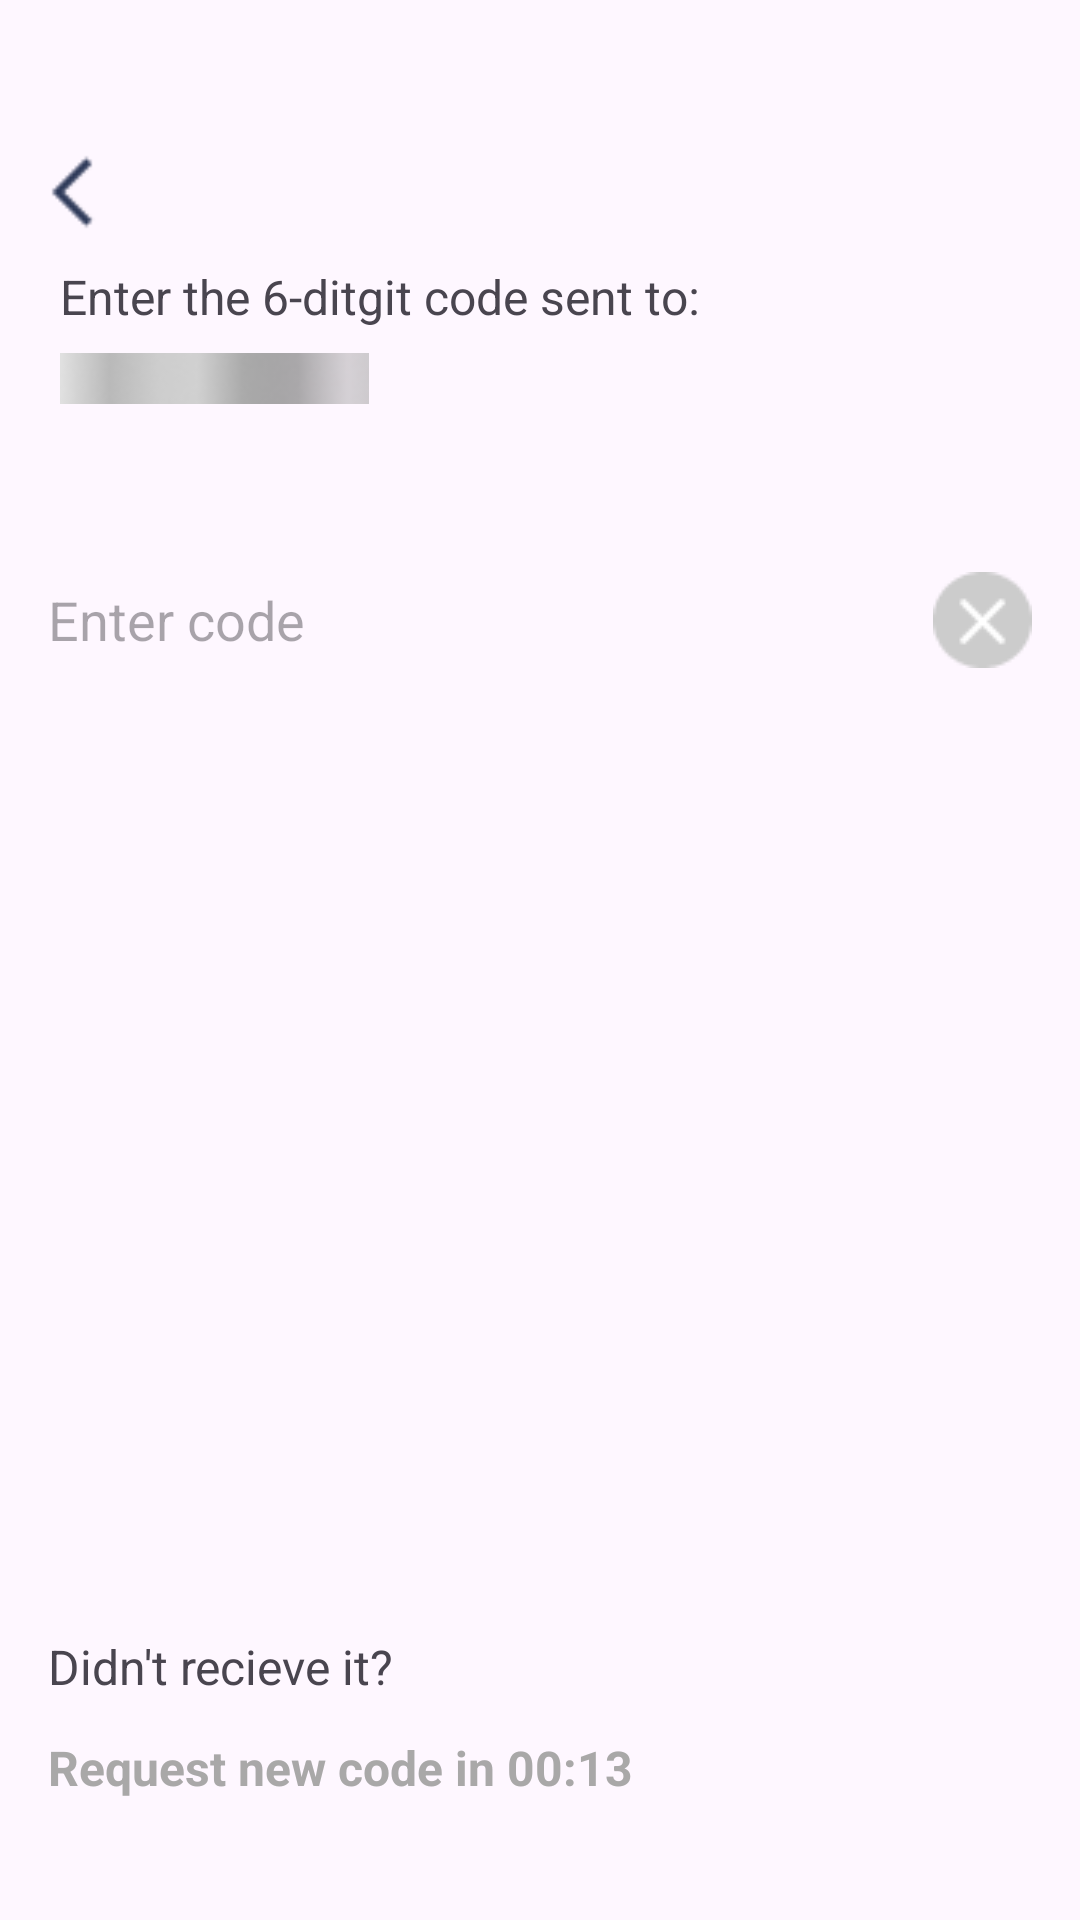

Icon bounding boxes for this 1080w x 1920h phone screenshot, format (x1, y1, x2, y2):
back: (52, 156, 93, 228)
